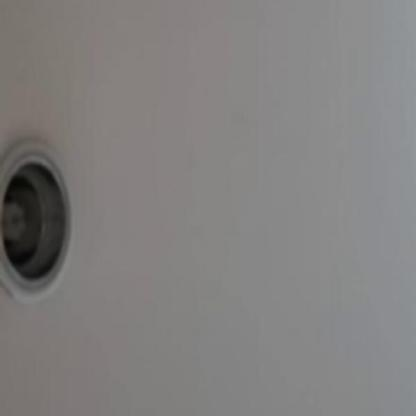light_off: (0, 109, 87, 325)
